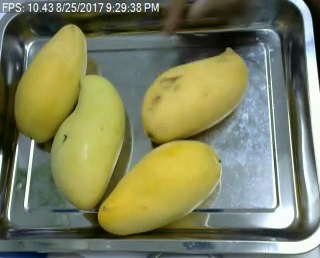Mango: (97, 142, 222, 233), (49, 74, 124, 207), (142, 48, 245, 142), (12, 22, 88, 143)
